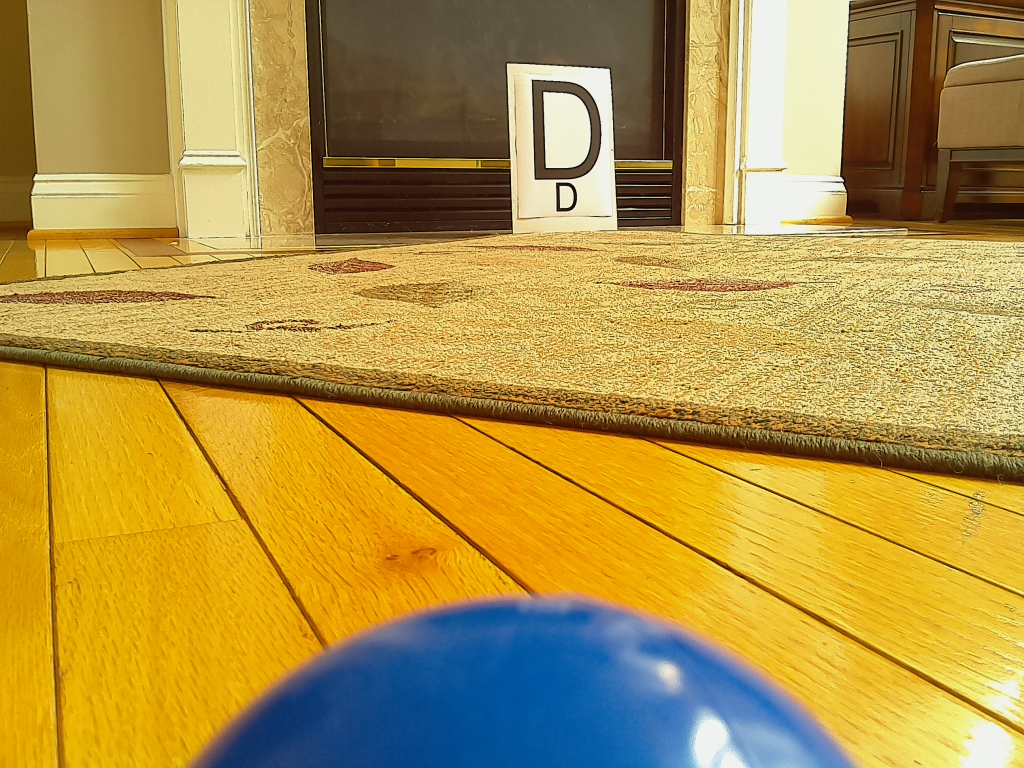letter: (536, 80, 602, 180)
